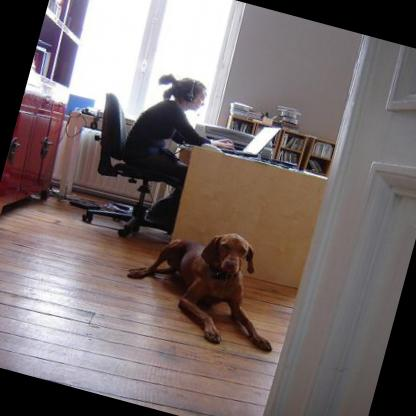vizsla: (108, 206, 298, 363)
